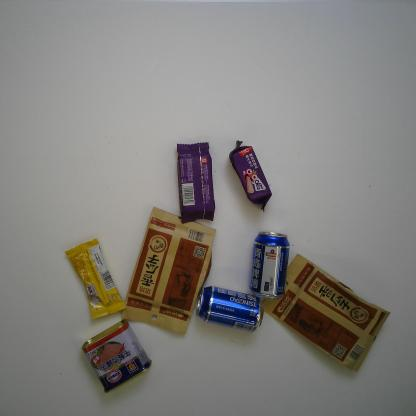Alcohol: (192, 286, 266, 335), (248, 228, 291, 304)
Canned Food: (78, 318, 154, 395)
Chocolate: (63, 236, 128, 322)
Dessert: (174, 137, 216, 229), (228, 138, 273, 214)
Dried Food: (258, 251, 392, 373), (120, 203, 217, 338)
